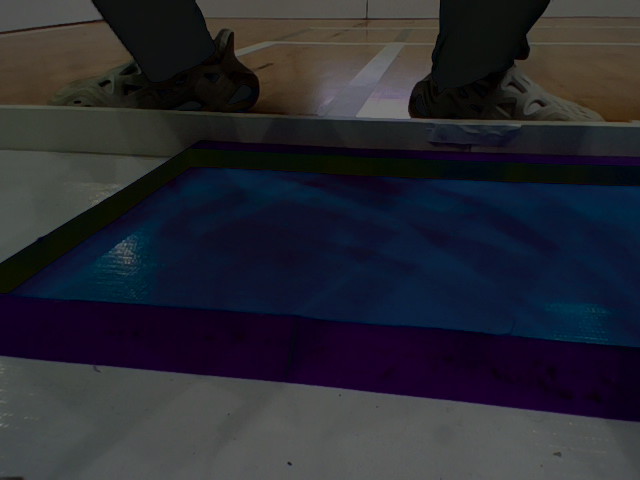kuang: (1, 145, 640, 423)
